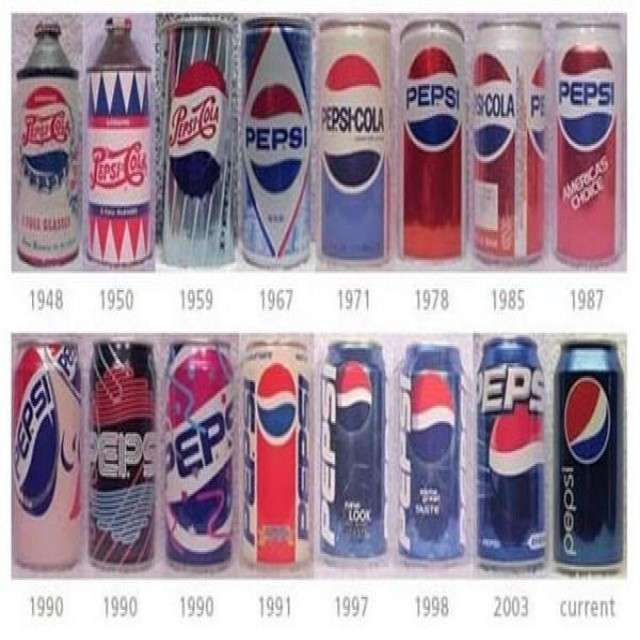pepsi: (490, 401, 550, 533), (556, 40, 617, 153), (403, 372, 458, 463), (562, 374, 611, 464), (254, 358, 300, 444), (334, 360, 372, 431)
